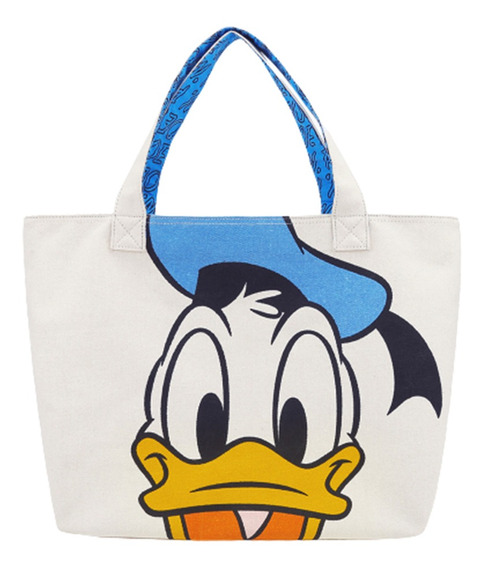cartera: (21, 25, 462, 543)
